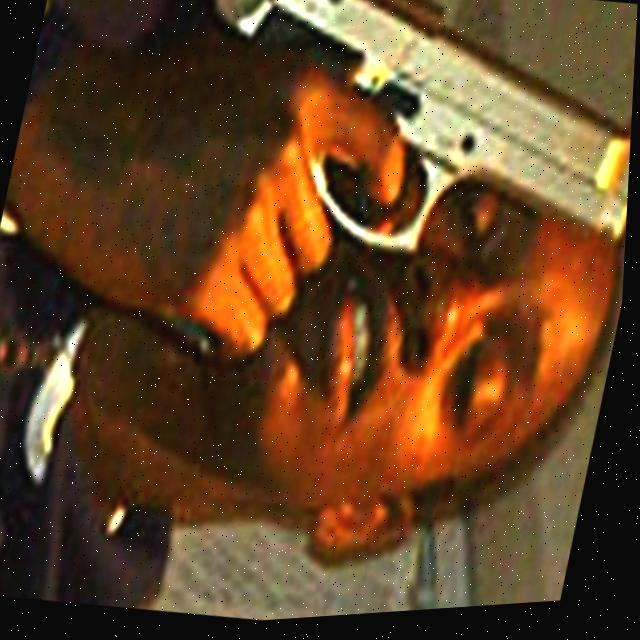pistol: (184, 0, 640, 306)
